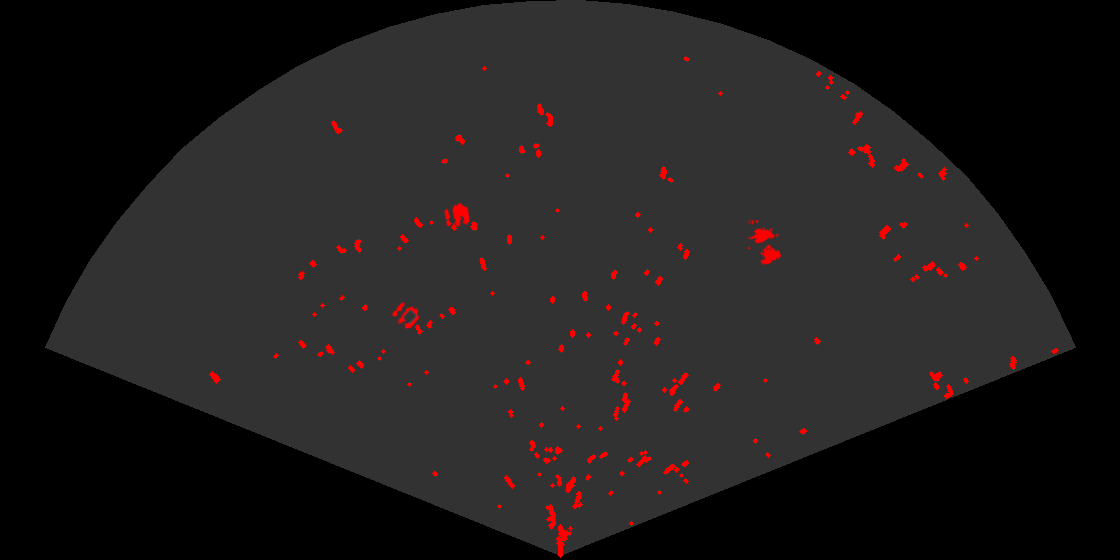ball: (391, 301, 421, 330), (443, 202, 472, 229)
cage: (748, 220, 783, 267)
